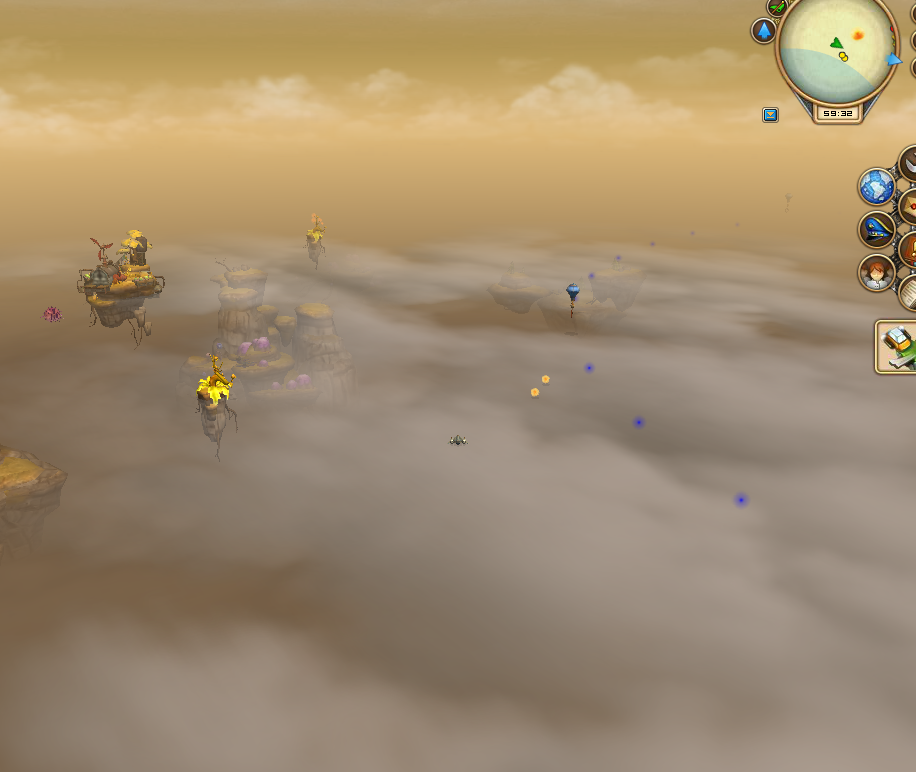dandelion-empty: (191, 352, 242, 452)
dandelion-full: (303, 211, 328, 267)
fluff: (528, 383, 542, 401), (537, 373, 554, 387)
